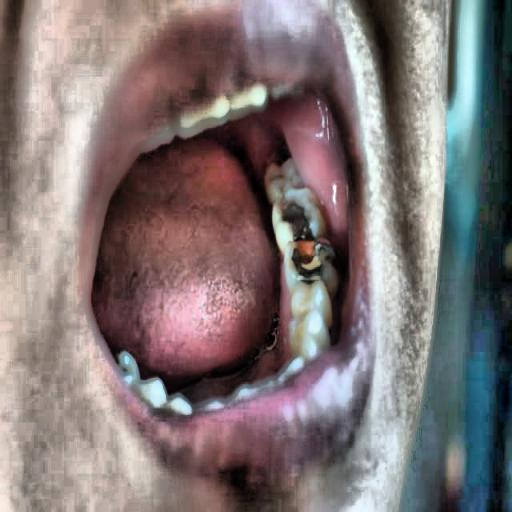Caries: (260, 152, 368, 300)
